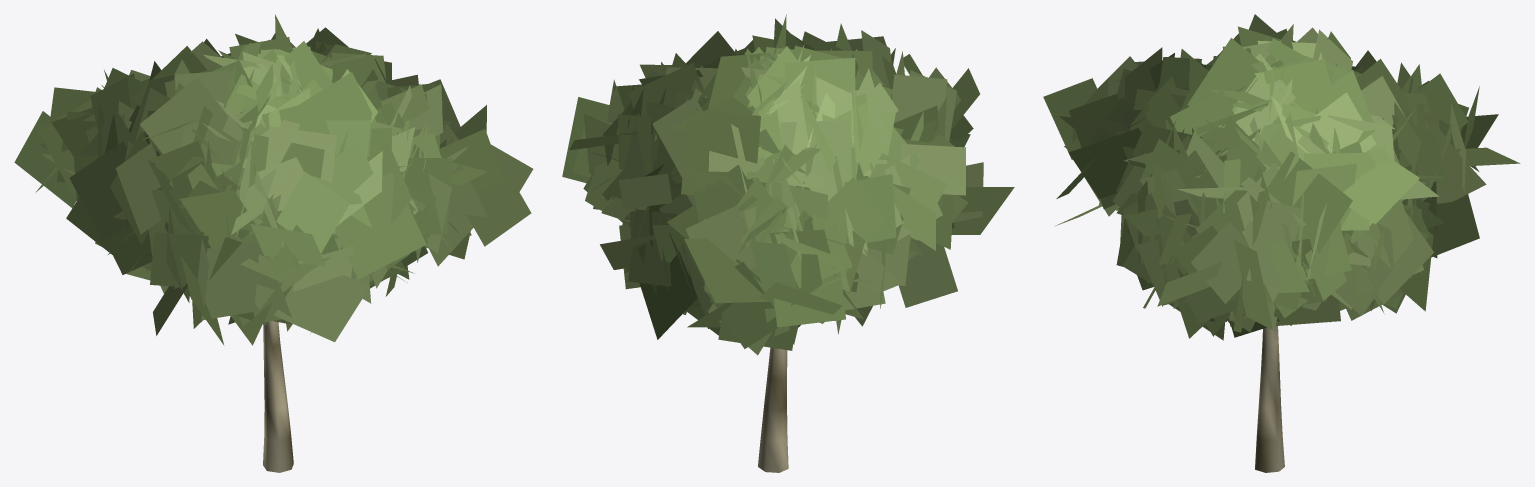
3 renders of one model, left to right at view 1: azimuth 30°, elevation 25°; view 2: azimuth 150°, elevation 25°; view 3: azimuth 270°, elevation 25°, orthographic.
Parts seen in each view (by area): view 1: plane_1; view 2: plane_1; view 3: plane_1.
Part boxes in pixels (x1=…): plane_1: x1=14, y1=14, x2=533, y2=472; plane_1: x1=562, y1=14, x2=1014, y2=472; plane_1: x1=1043, y1=14, x2=1520, y2=472.
Size of the model in its own units: 0.945 by 1 by 1.
